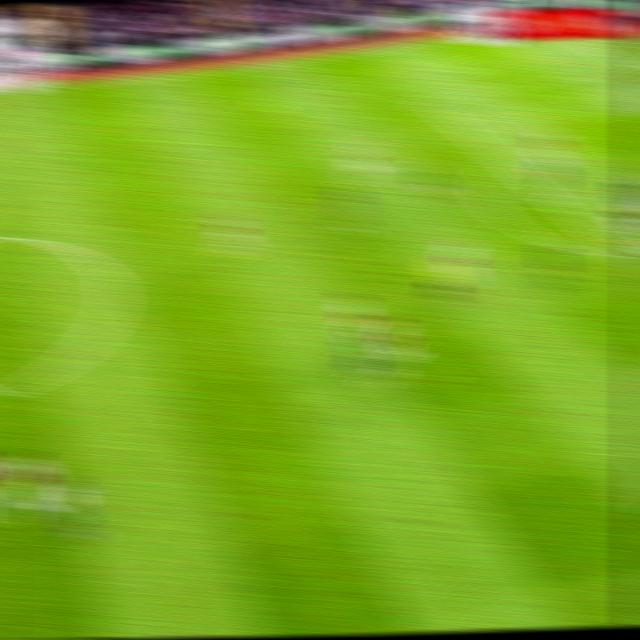bigarea_top_inner: (415, 89, 447, 110)
bigarea_top_outter: (611, 53, 640, 71)
bottom_arc_area_intersection: (606, 242, 638, 265)
corner: (559, 31, 590, 45)
top_arc_area_intersection: (487, 148, 518, 168)
